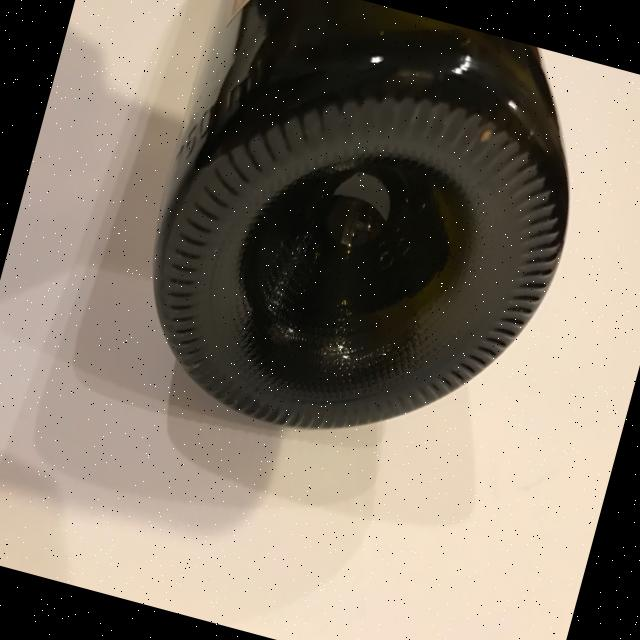glass: (110, 0, 611, 486)
